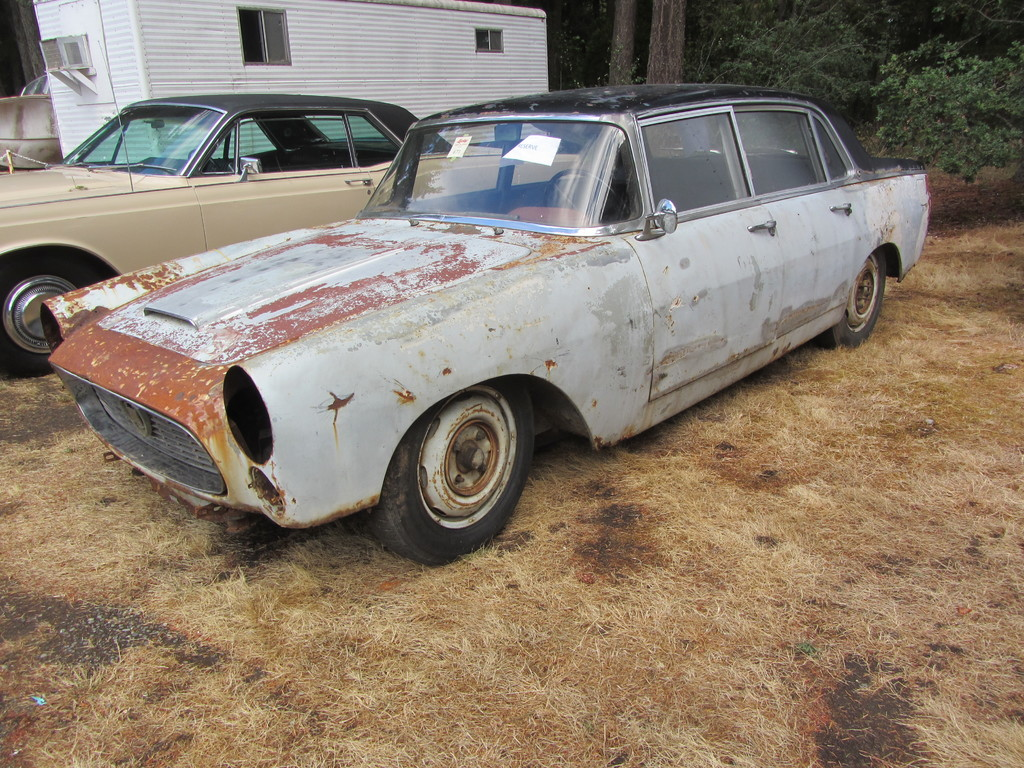Car: (0, 0, 583, 370), (0, 72, 67, 170)
